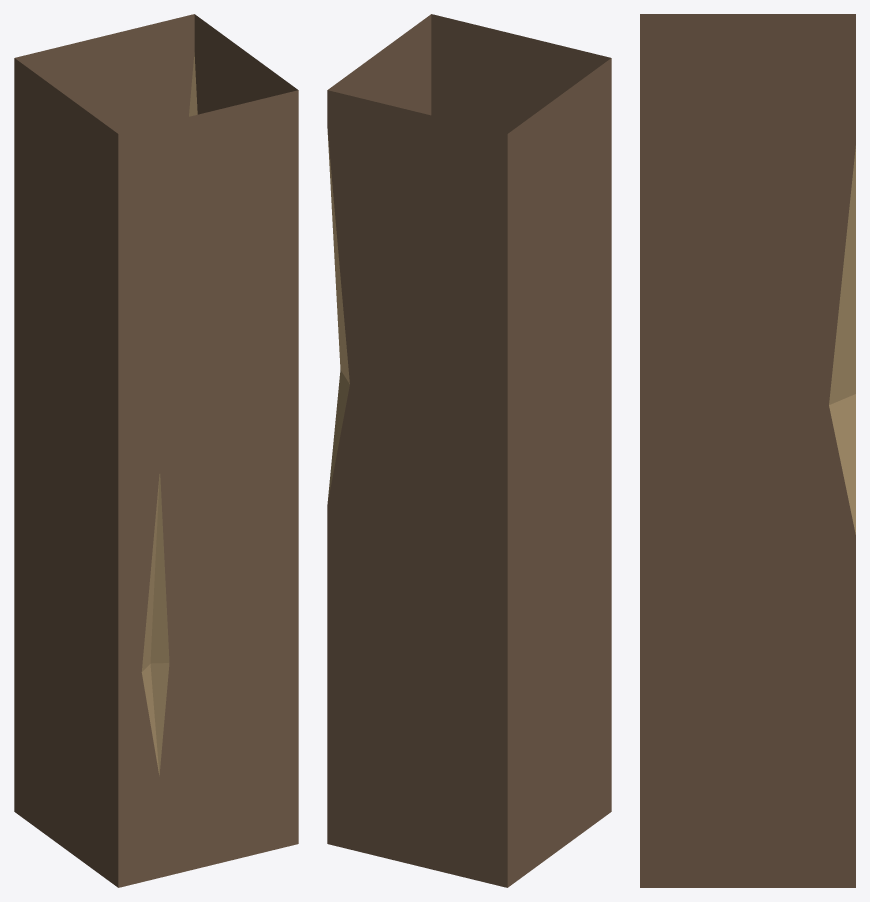
Rendered from Cave_Prop_Support_Wall_Pillar_2.obj.
3 views of the same model, side by side, from view 1: azimuth 30°, elevation 25°; view 2: azimuth 150°, elevation 25°; view 3: azimuth 270°, elevation 25° (orthographic). The views are drawn at different scales.
Parts seen in each view (by area): view 1: object1; view 2: object1; view 3: object1.
Part boxes in pixels (bbox=[...]): object1: bbox=[14, 14, 298, 887]; object1: bbox=[327, 14, 611, 887]; object1: bbox=[640, 14, 855, 887].
Size of the model in its own units: 0.25 by 1 by 0.25.
